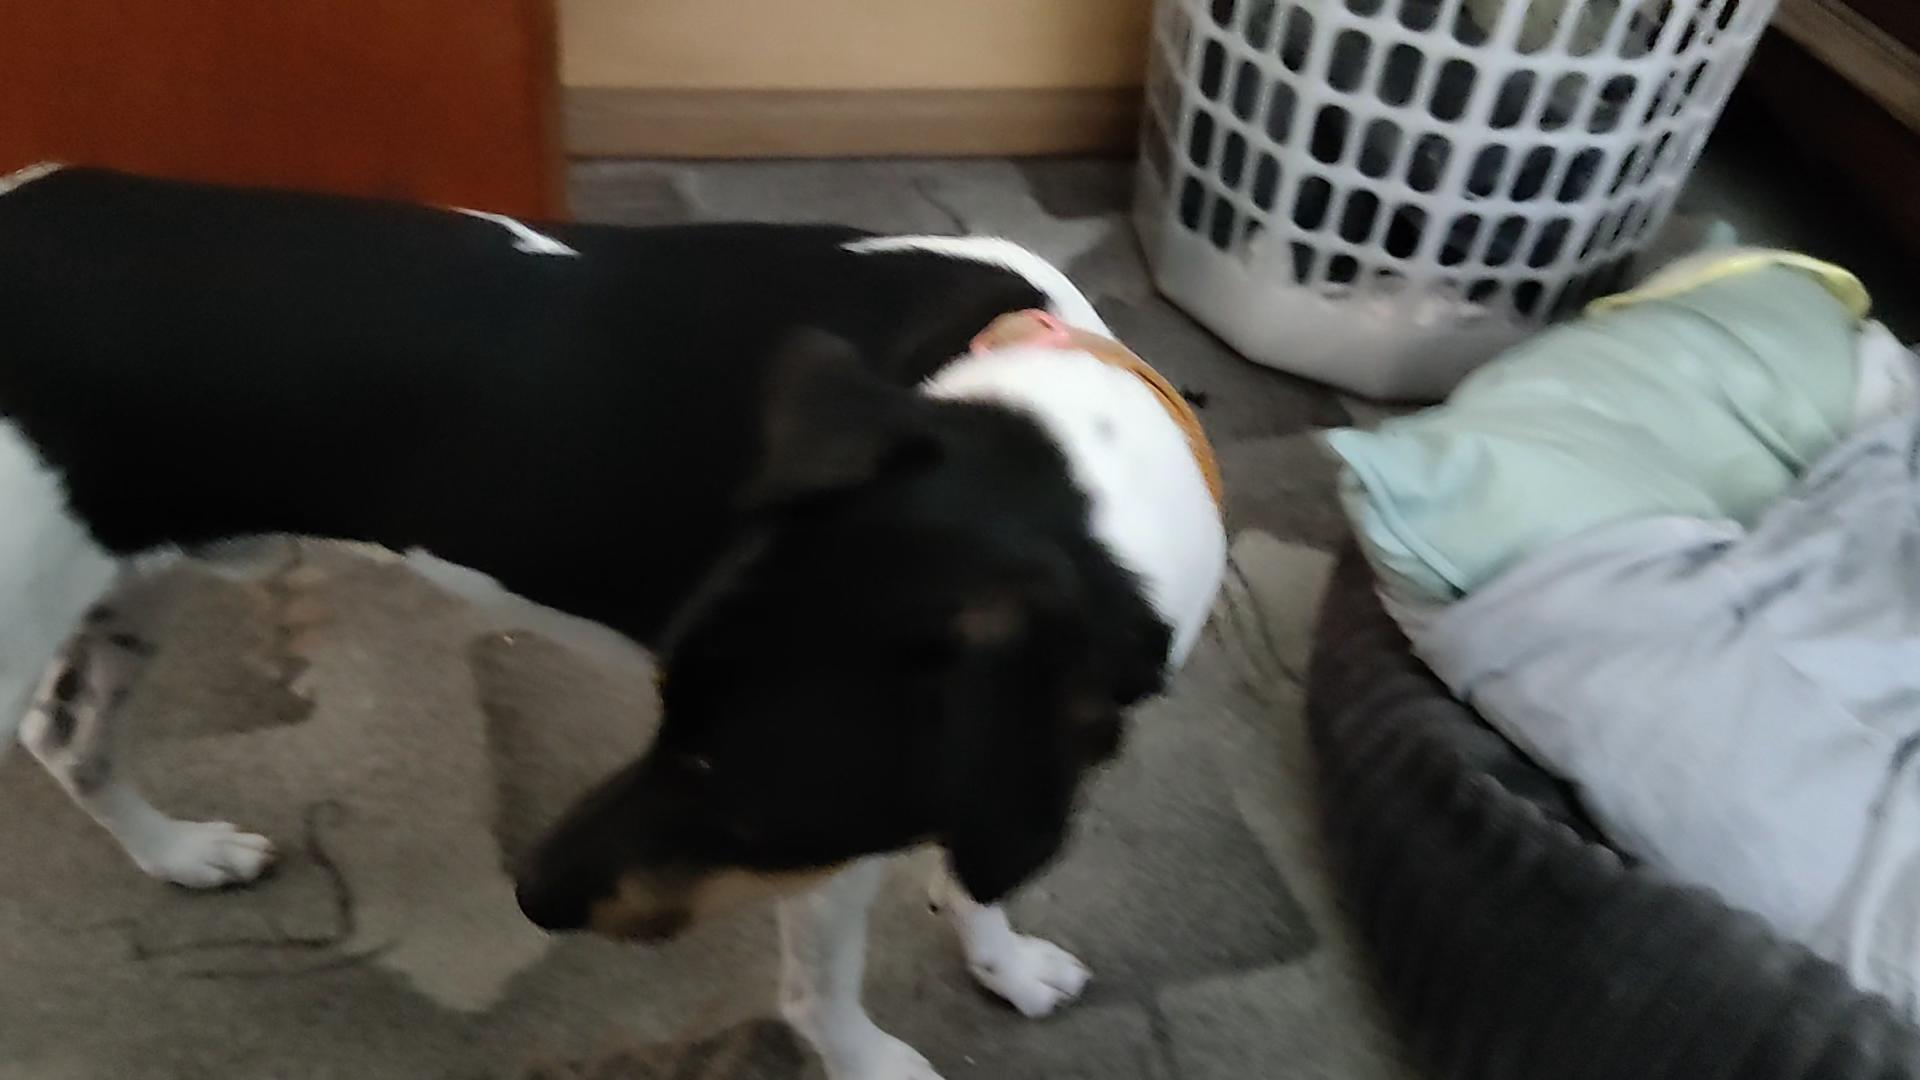Dog: (0, 135, 1246, 1079)
